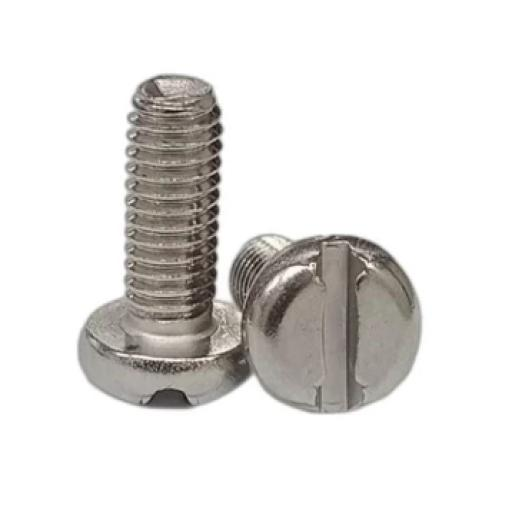Slotted: (245, 235, 424, 414)
